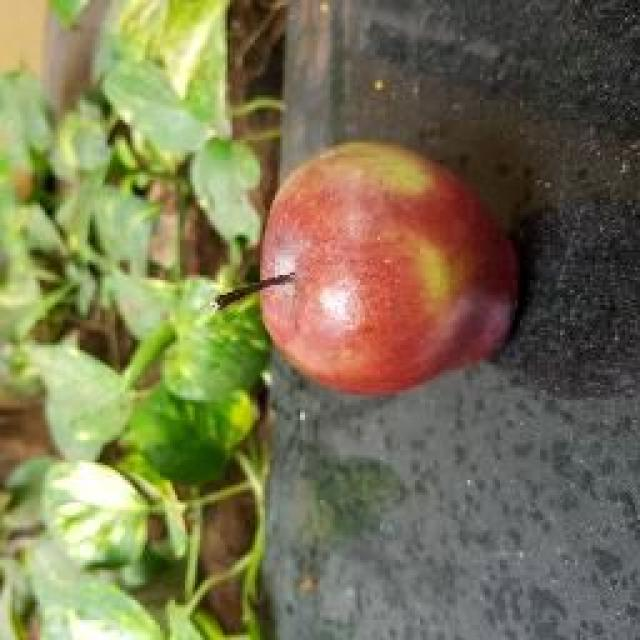Good_Apple: (258, 142, 522, 398)
